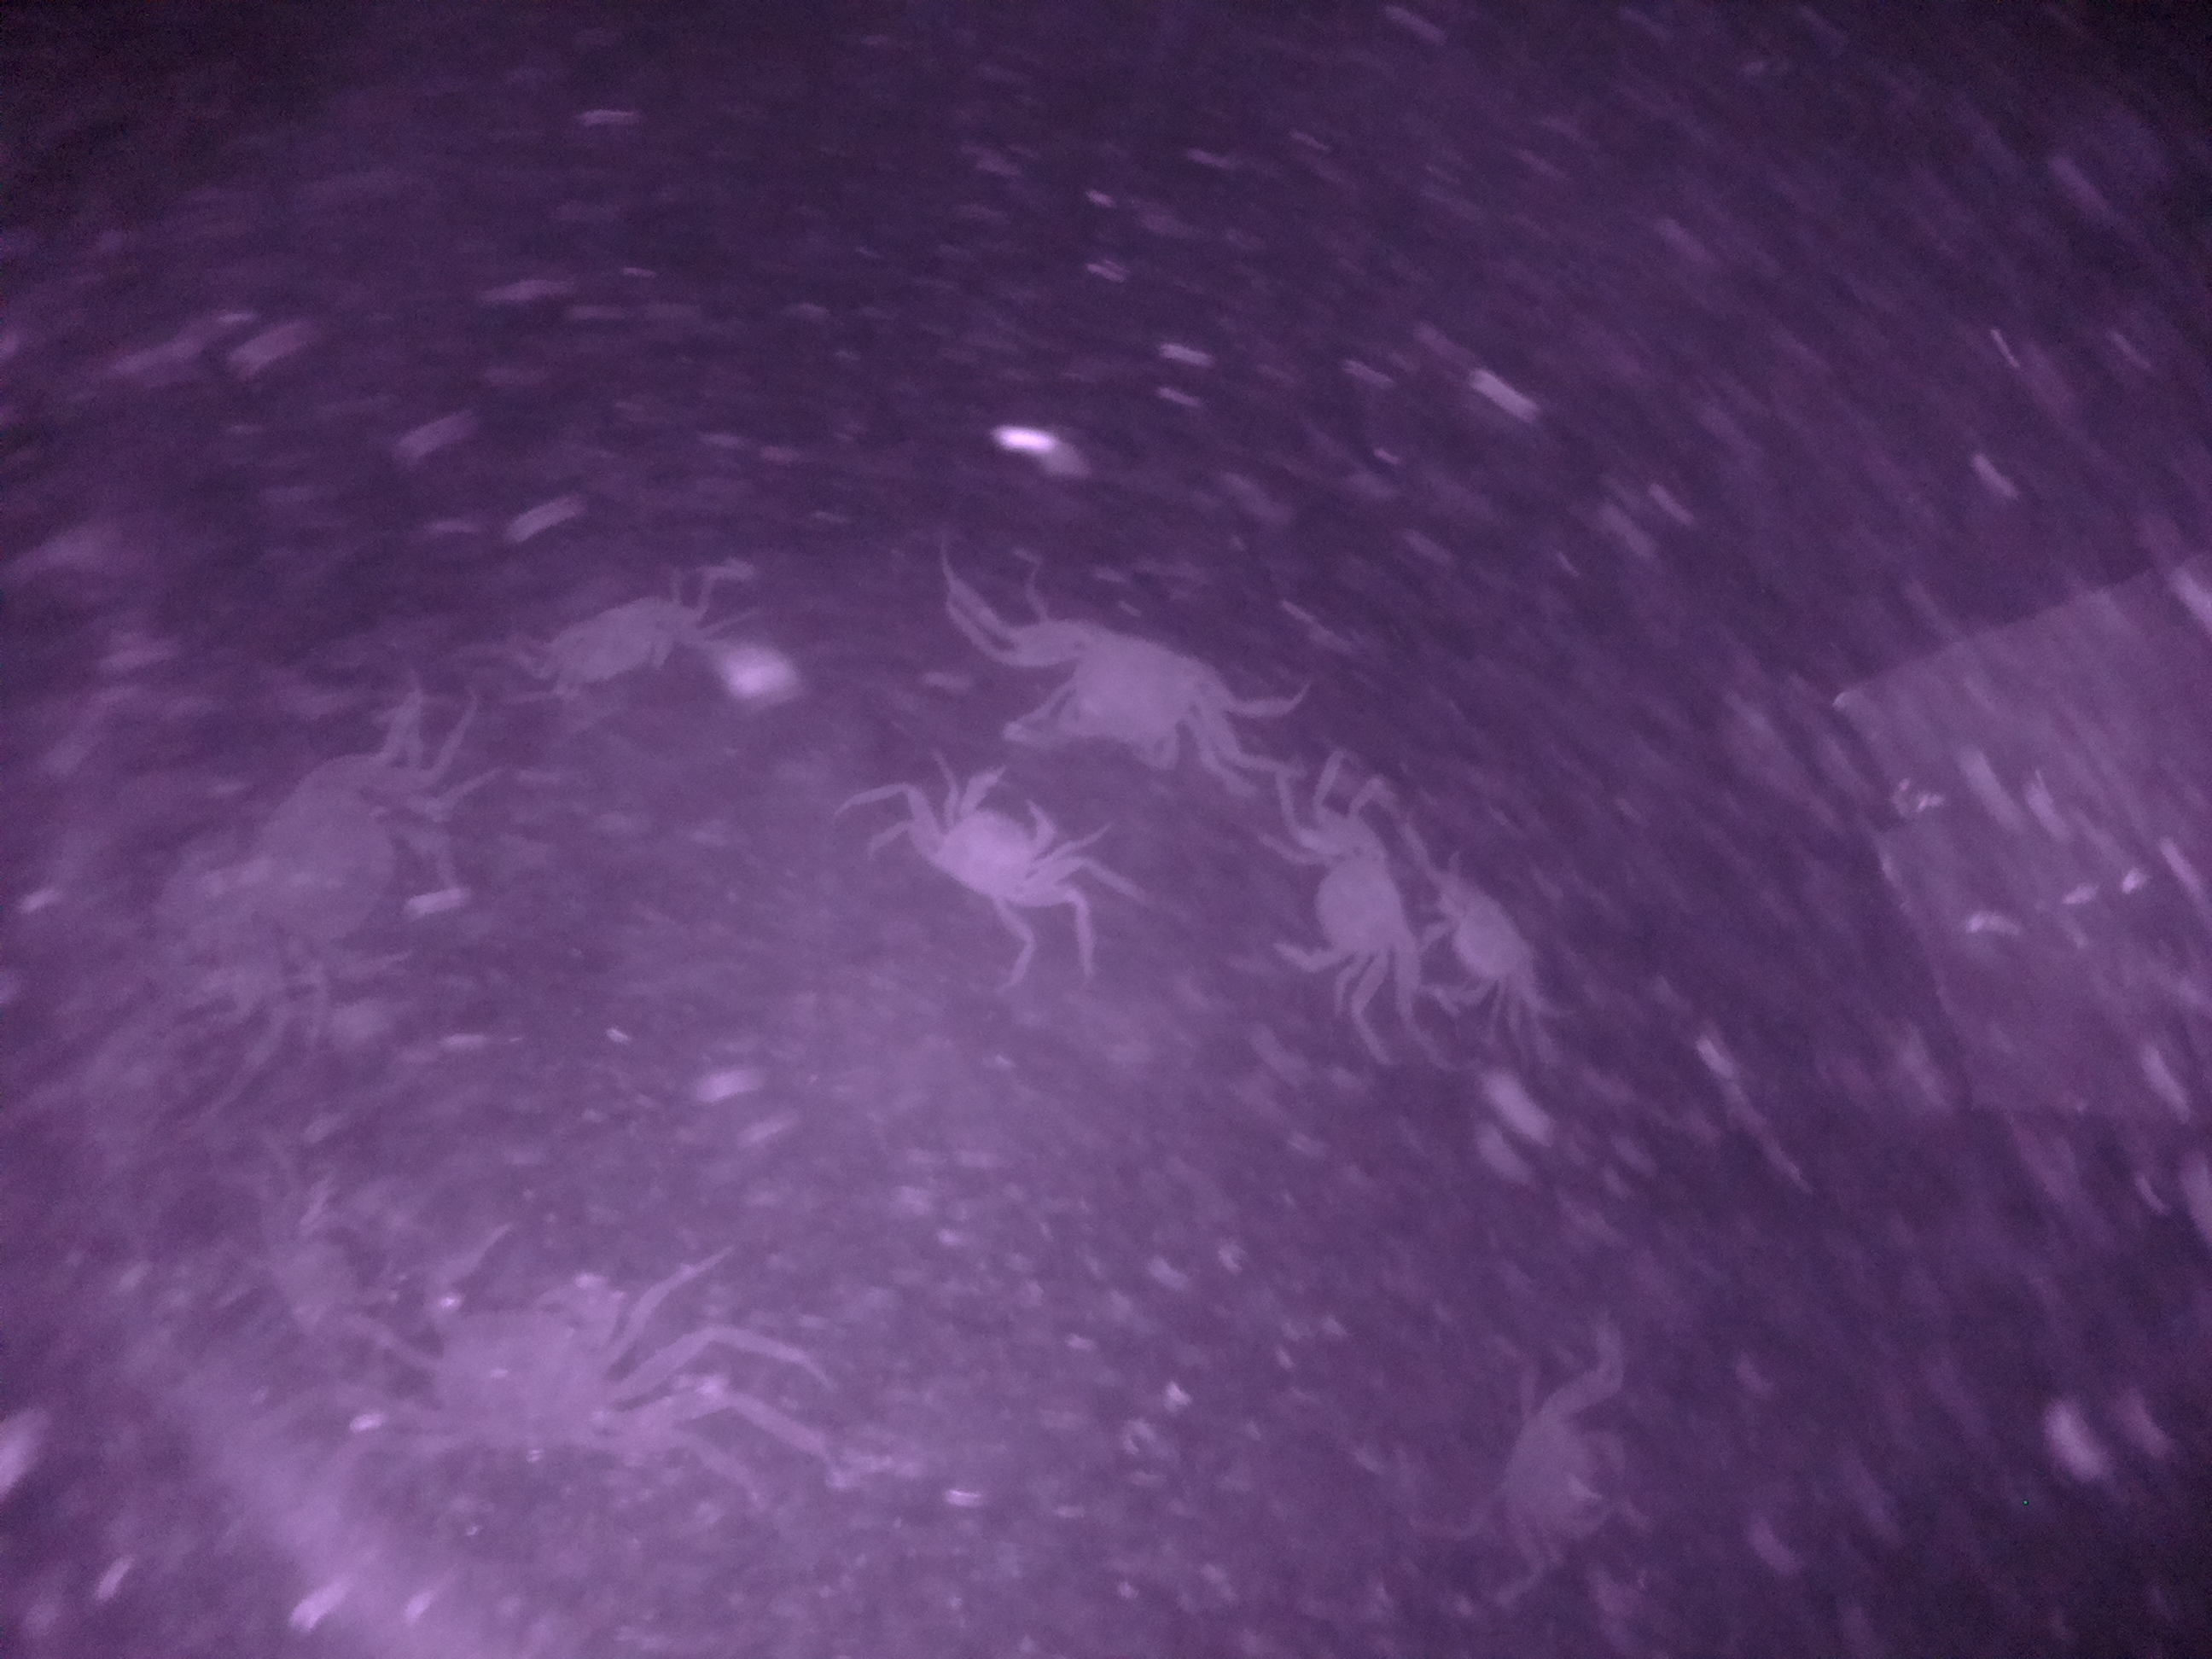Crab: (1019, 598, 1233, 786), (890, 742, 1087, 938), (1252, 807, 1425, 988)
